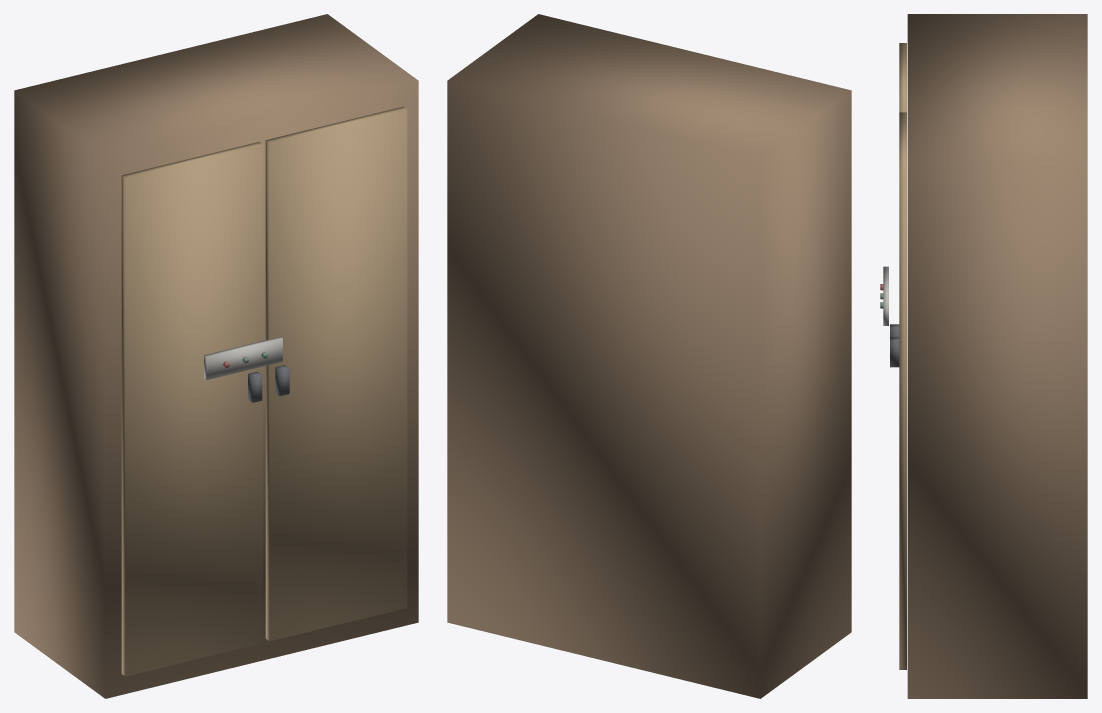
File: wardrobe.glb
3 renders of one model, left to right at view 1: azimuth 30°, elevation 25°; view 2: azimuth 150°, elevation 25°; view 3: azimuth 270°, elevation 25°, orthographic.
Parts seen in each view (by area): view 1: world; view 2: world; view 3: world.
Boxes of the visible parts, x1,y1,x2,y2 form: world: (14,14,418,698); world: (447,14,851,698); world: (880,14,1087,698).
Bounding box in the file's own units: 1.15 × 1.9 × 0.6685.
